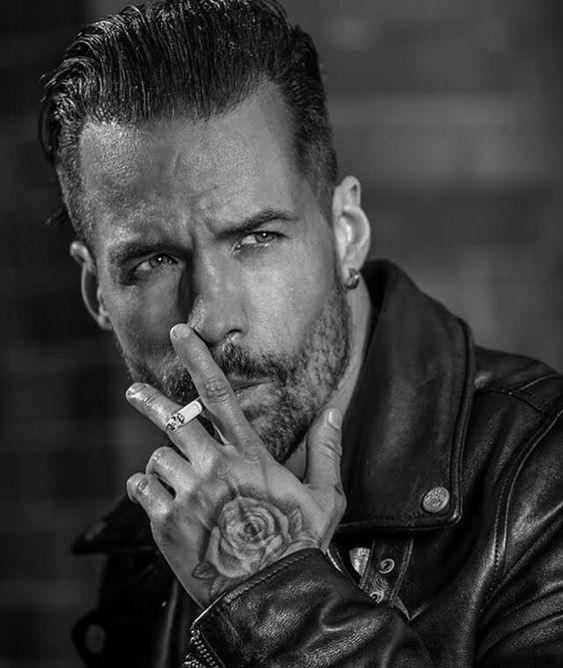cigarette: (165, 396, 206, 432)
